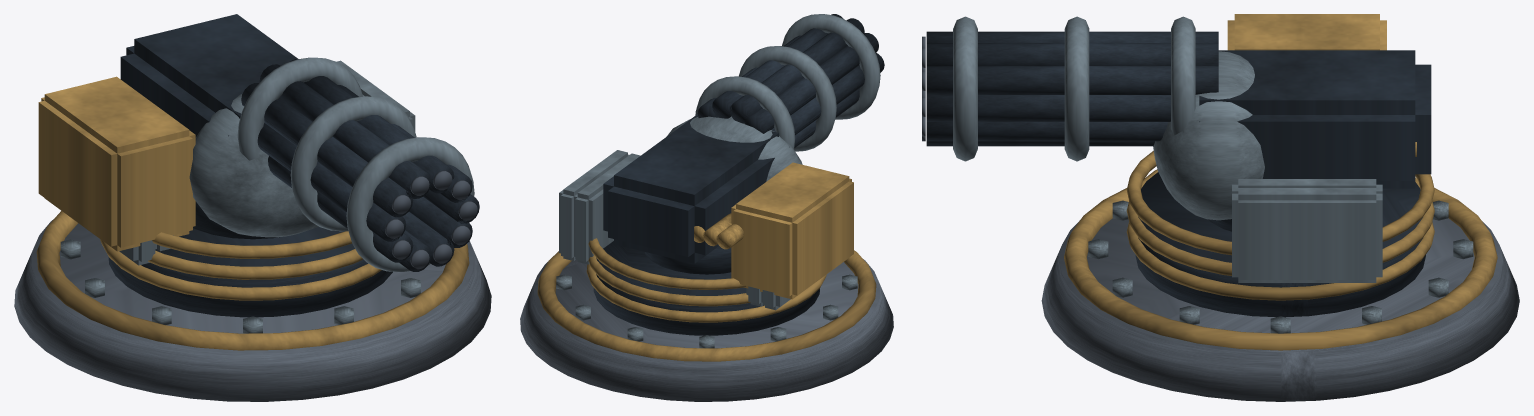
File: tower_gun_3.glb
3 views of the same model, side by side, from view 1: azimuth 30°, elevation 25°; view 2: azimuth 150°, elevation 25°; view 3: azimuth 270°, elevation 25° (orthographic). The views are drawn at different scales.
Visible parts, largest first — view 1: Weathered_granite, Forged_black_iron.001, Weathered_blue_steel.001, Antique_brass.001, Antique_brass, Forged_black_iron, Weathered_blue_steel, Eye_socket; view 2: Forged_black_iron.001, Weathered_granite, Antique_brass.001, Antique_brass, Weathered_blue_steel.001, Forged_black_iron, Weathered_blue_steel; view 3: Forged_black_iron.001, Weathered_granite, Antique_brass, Weathered_blue_steel.001, Weathered_blue_steel, Forged_black_iron, Antique_brass.001.
Boxes of the visible parts, x1,y1,x2,y2 form: Weathered_granite: [14, 219, 491, 401]; Forged_black_iron.001: [120, 14, 479, 271]; Weathered_blue_steel.001: [189, 57, 474, 272]; Antique_brass.001: [38, 76, 195, 251]; Antique_brass: [36, 211, 469, 350]; Forged_black_iron: [108, 201, 392, 317]; Weathered_blue_steel: [60, 60, 420, 333]; Eye_socket: [385, 170, 477, 269]; Forged_black_iron.001: [603, 14, 884, 263]; Weathered_granite: [520, 259, 893, 401]; Antique_brass.001: [694, 162, 853, 299]; Antique_brass: [537, 238, 876, 361]; Weathered_blue_steel.001: [666, 14, 880, 181]; Forged_black_iron: [593, 241, 819, 335]; Weathered_blue_steel: [556, 150, 857, 348]; Forged_black_iron.001: [926, 31, 1431, 188]; Weathered_granite: [1041, 218, 1519, 401]; Antique_brass: [1064, 151, 1497, 350]; Weathered_blue_steel.001: [953, 16, 1264, 220]; Weathered_blue_steel: [1088, 179, 1473, 333]; Forged_black_iron: [1135, 172, 1425, 317]; Antique_brass.001: [1227, 14, 1416, 156].
Bounding box in the file's own units: 2.7 × 1.73 × 3.38.
Materials: 5 (4 with a texture image).
